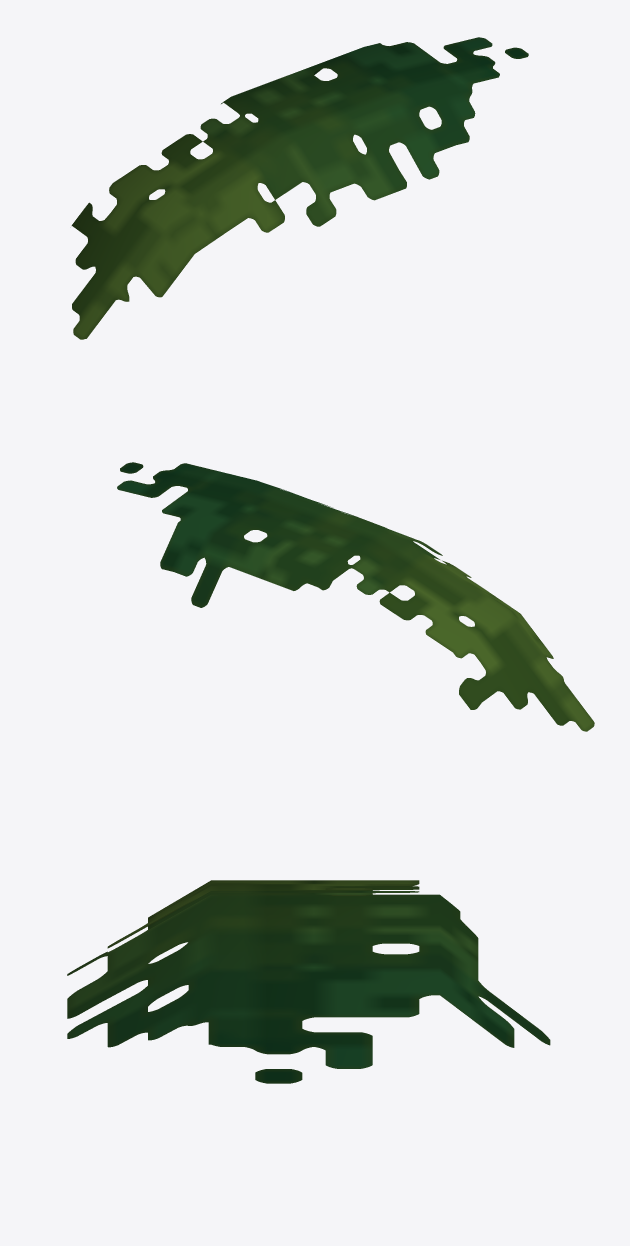
Rendered from SW_Branch_01.fbx.
3 renders of one model, top to bottom at view 1: azimuth 30°, elevation 25°; view 2: azimuth 150°, elevation 25°; view 3: azimuth 270°, elevation 25°, orthographic. The views are drawn at different scales.
Visible parts, largest first — view 1: SW_Branch_01; view 2: SW_Branch_01; view 3: SW_Branch_01.
Boxes of the visible parts, box(x1,y1,x2,y2) form: SW_Branch_01: box(71, 37, 528, 339); SW_Branch_01: box(117, 462, 594, 731); SW_Branch_01: box(67, 880, 550, 1083).
Size of the model in its own units: 82.01 by 35.83 by 49.09.
Materials: 1 (1 with a texture image).
